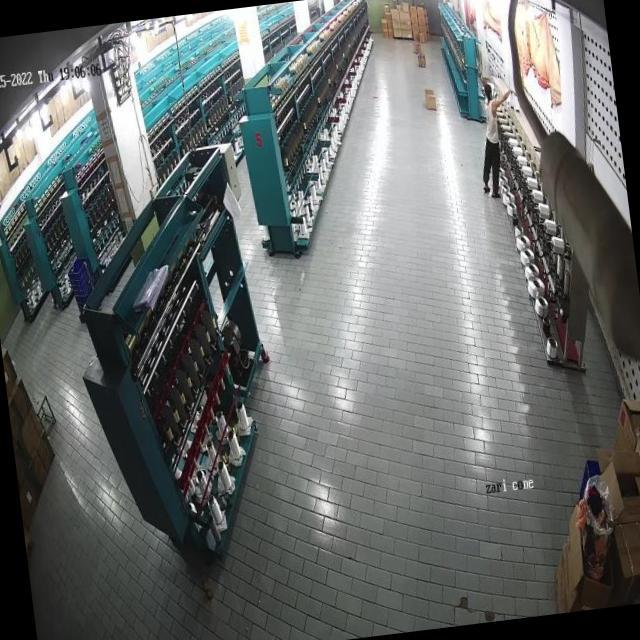person: (469, 85, 509, 202)
